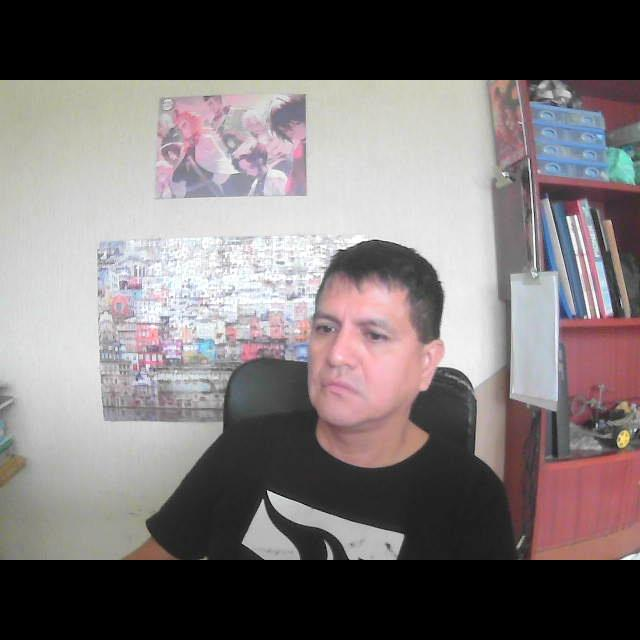cesar: (277, 230, 461, 476)
